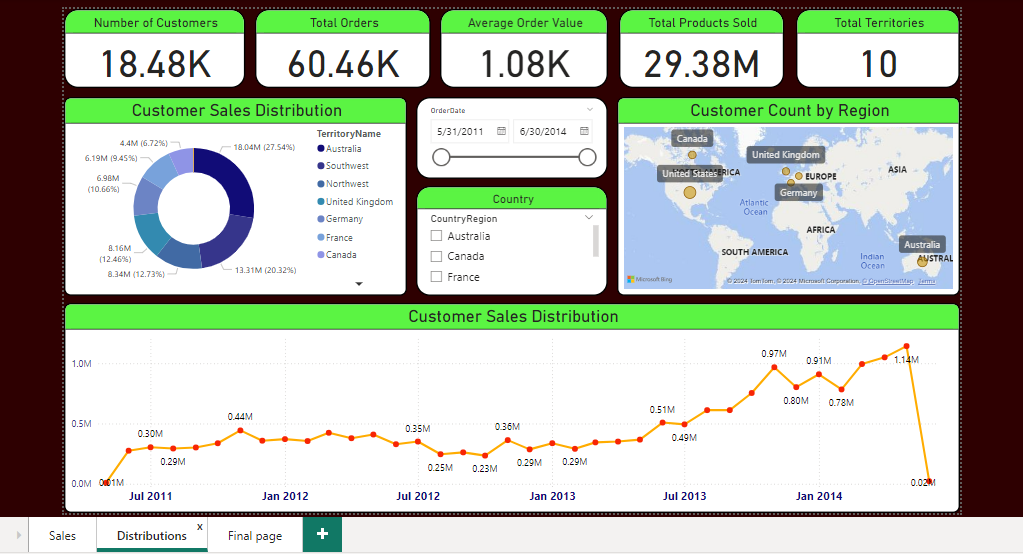

The page's visual inventory and layout, read from the dashboard file:
{"tool":"powerbi","page":{"name":"Distributions","canvas":[1280,720],"ordinal":1},"visuals":[{"type":"map","title":"Customer Count by Region","fields":{"Category":["Query1.CountryRegion"],"Size":["CountNonNull(Query1.CustomerID)"]},"box":[790,125.7,490,284.3],"z":0},{"type":"donutChart","title":"Customer Sales Distribution","fields":{"Y":["Sum(Query1.TotalDue)"],"Category":["Query1.TerritoryName"]},"box":[0,125.7,490,284.3],"z":1000},{"type":"lineChart","title":"Customer Sales Distribution","fields":{"Y":["Sum(Query1.StandardCost)"],"Category":["Query1.OrderDate.Variation.Date Hierarchy.Year","Query1.OrderDate.Variation.Date Hierarchy.Quarter","Query1.OrderDate.Variation.Date Hierarchy.Month","Query1.OrderDate.Variation.Date Hierarchy.Day"]},"box":[0,420,1280,300],"z":2000},{"type":"slicer","title":"Total Sales","fields":{"Values":["Query1.OrderDate"]},"box":[502.9,125.7,274.3,117.1],"z":3000},{"type":"card","title":"Number of Customers","fields":{"Values":["Count(Query1.CustomerID)"]},"box":[0,0,258.6,112.9],"z":4000},{"type":"card","title":"Total Orders","fields":{"Values":["CountNonNull(Query1.SalesOrderID)"]},"box":[272.9,0,251.4,112.9],"z":5000},{"type":"card","title":"Average Order Value","fields":{"Values":["Avg(Query1.TotalDue)"]},"box":[537.1,0,240,112.9],"z":6000},{"type":"card","title":"Total Products Sold","fields":{"Values":["Sum(Query1.LineTotal)"]},"box":[792.9,0,235.7,112.9],"z":7000},{"type":"card","title":"Total Territories","fields":{"Values":["Count(Query1.TerritoryName)"]},"box":[1045.7,0,234.3,112.9],"z":8000},{"type":"slicer","title":"Country","fields":{"Values":["Query1.CountryRegion"]},"box":[502.9,252.9,274.3,157.1],"z":9000}]}

Visuals, with their boxes on the page's 1280x720 design canvas (x1, y1, x2, y2). These are canvas units, not pixel positions in the 1023x554 screenshot, which may show the page scaled, cropped or inside an application window:
"Customer Count by Region" map: (790, 126, 1280, 410)
"Customer Sales Distribution" donutChart: (0, 126, 490, 410)
"Customer Sales Distribution" lineChart: (0, 420, 1280, 720)
"Total Sales" slicer: (503, 126, 777, 243)
"Number of Customers" card: (0, 0, 259, 113)
"Total Orders" card: (273, 0, 524, 113)
"Average Order Value" card: (537, 0, 777, 113)
"Total Products Sold" card: (793, 0, 1029, 113)
"Total Territories" card: (1046, 0, 1280, 113)
"Country" slicer: (503, 253, 777, 410)
